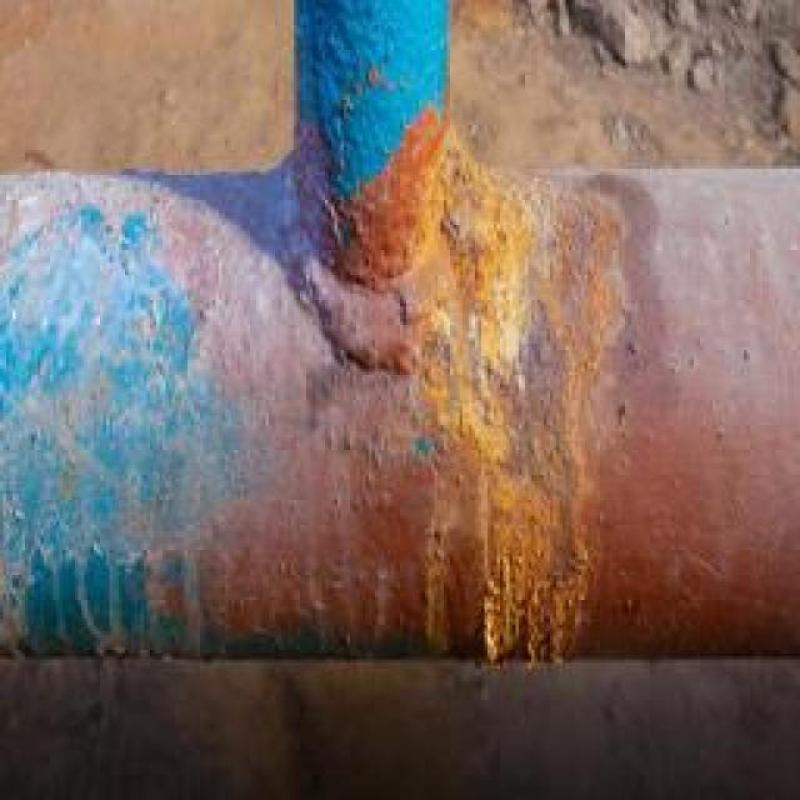corrosion: (412, 116, 606, 636)
